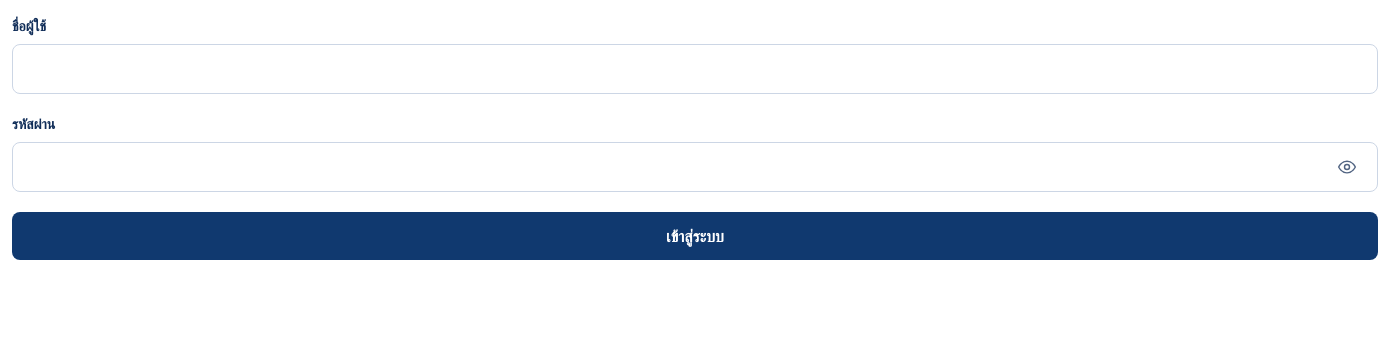
Test case: uses auth.invalid_credentials regardless of the translated backend message
Type " synthetic-user " into the field labelled "ชื่อผู้ใช้" at (695, 69), box [27,45,1363,93]
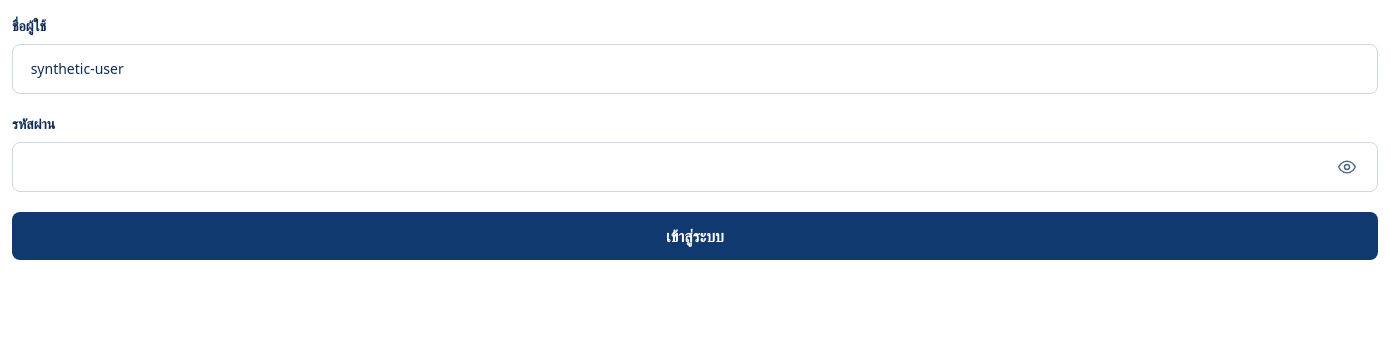
Type "synthetic-password" into the password field labelled "รหัสผ่าน" at (673, 167), box [27,143,1319,191]
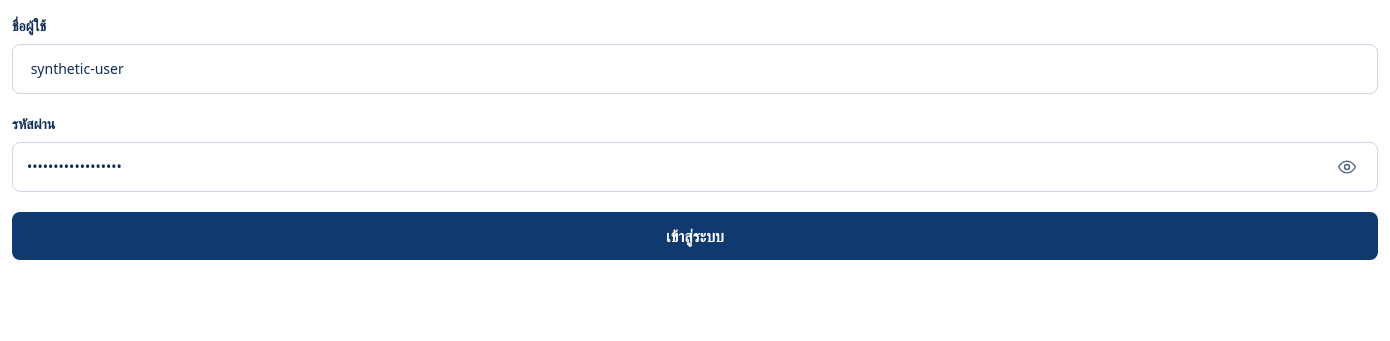
Click the button "เข้าสู่ระบบ" at (695, 236), box [12,212,1378,260]
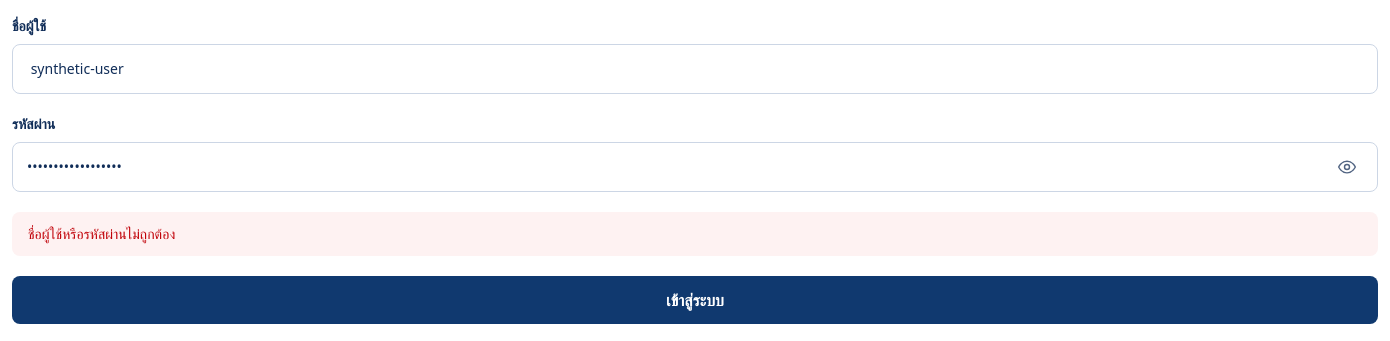
Expected: the message reads "ชื่อผู้ใช้หรือรหัสผ่านไม่ถูกต้อง", [28,224,175,243]
